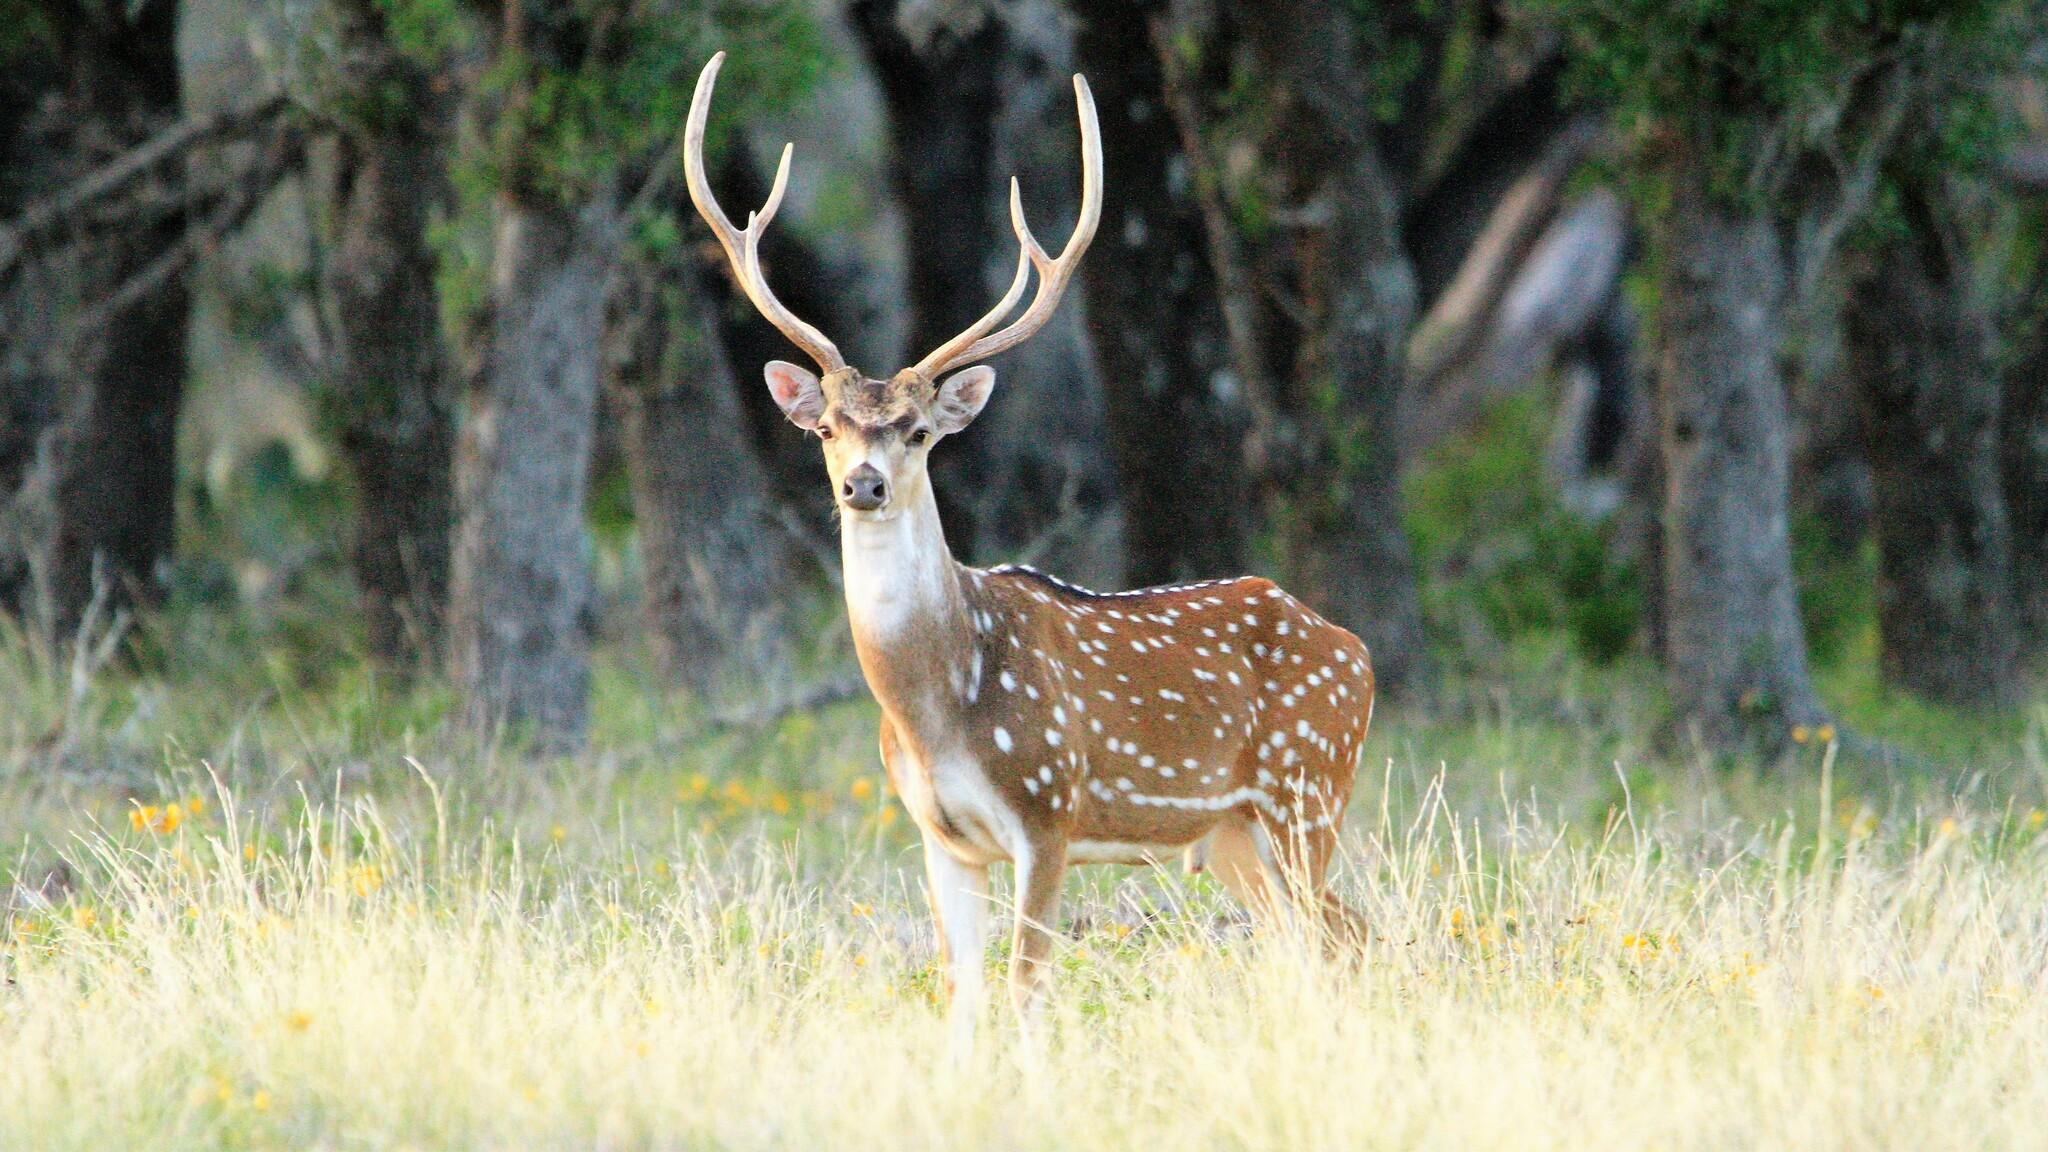Deer: (684, 53, 1371, 1023)
